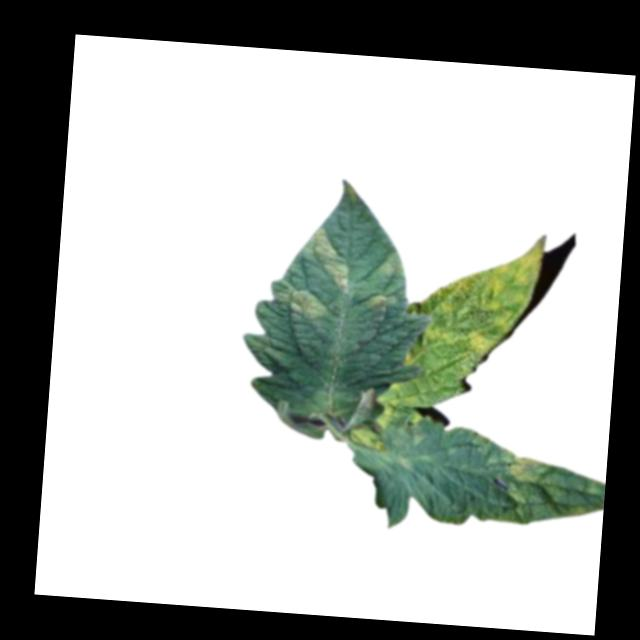Leaf_Mold: (404, 225, 546, 370), (300, 222, 358, 296), (269, 278, 331, 318), (506, 453, 554, 485), (381, 251, 404, 276), (366, 294, 391, 316)
